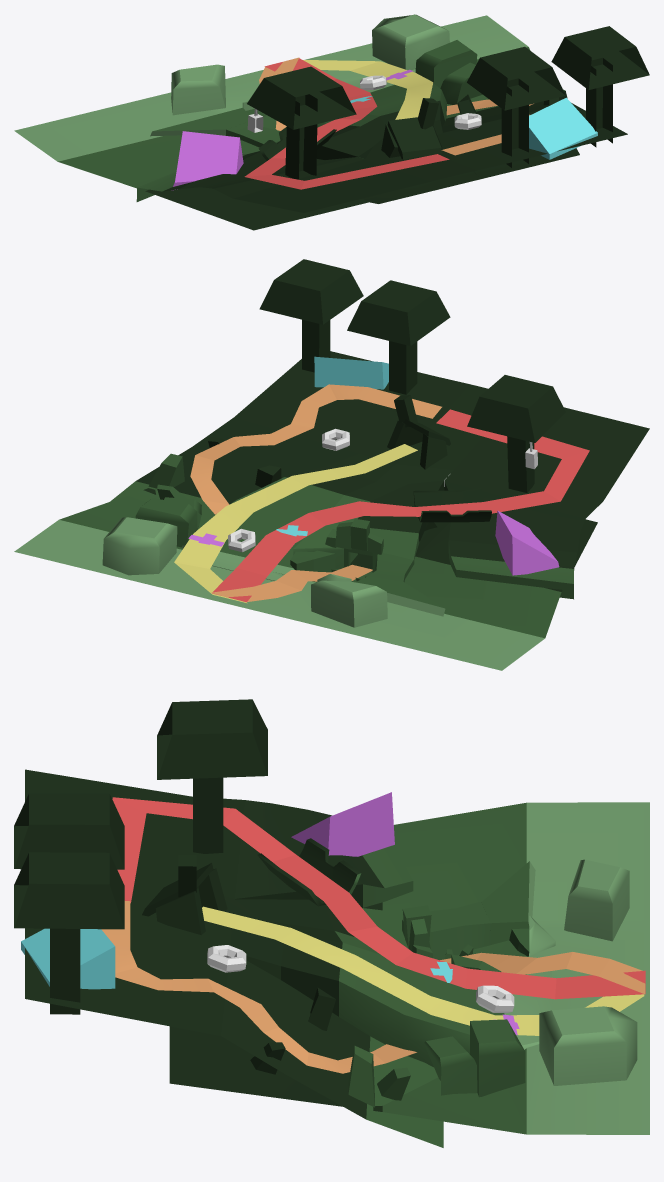
The model's file is ShootingRange.fbx.
The picture shows the model from 3 angles, top to bottom: view 1: azimuth 30°, elevation 25°; view 2: azimuth 150°, elevation 25°; view 3: azimuth 270°, elevation 25°; orthographic projection. The views are drawn at different scales.
Visible parts, largest first — view 1: shotting_Field, Path03, Path02, Path01; view 2: shotting_Field, Path03, Path01, Path02; view 3: shotting_Field, Path03, Path01, Path02.
Part boxes in pixels (box(x1,y1,x2,y2)): shotting_Field: box(14, 14, 649, 230); Path03: box(244, 58, 449, 189); Path02: box(303, 60, 433, 119); Path01: box(259, 57, 533, 155); shotting_Field: box(14, 259, 649, 670); Path03: box(212, 409, 589, 602); Path01: box(190, 384, 441, 602); Path02: box(174, 444, 417, 603); shotting_Field: box(14, 699, 649, 1147); Path03: box(112, 797, 645, 999); Path01: box(101, 901, 645, 1073); Path02: box(202, 906, 644, 1035).
Bounding box in the file's own units: 44.61 × 15.23 × 36.01.
